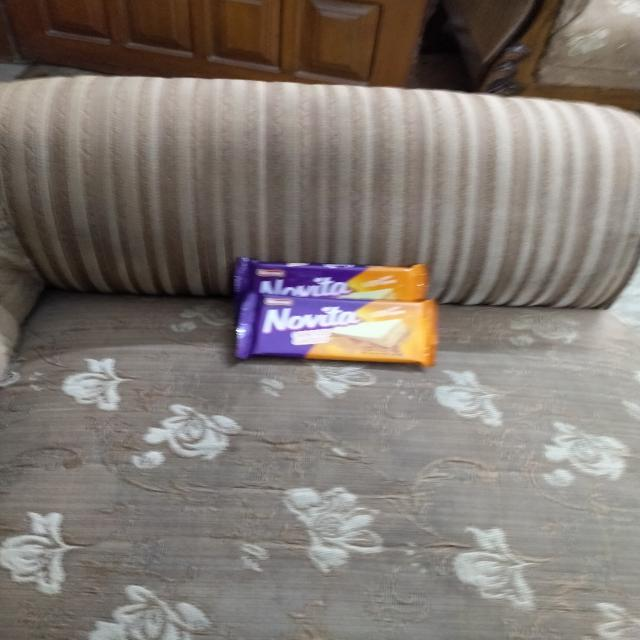Plastic: (232, 300, 440, 362), (239, 256, 432, 300)
